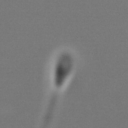normal: (39, 89, 56, 128)
